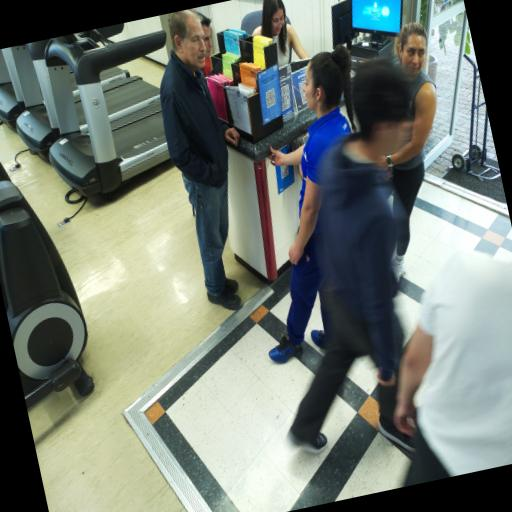person: (289, 59, 413, 453), (393, 253, 511, 485), (269, 46, 354, 363), (160, 10, 240, 310), (379, 23, 436, 280), (251, 0, 307, 67), (197, 13, 212, 76)
